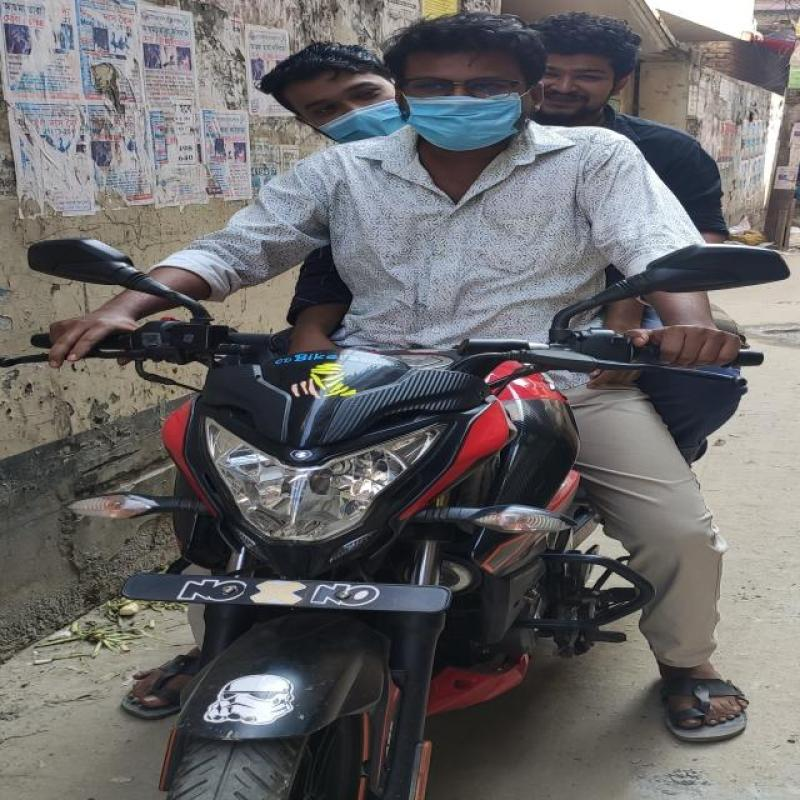nohelmet: (374, 16, 558, 152)
